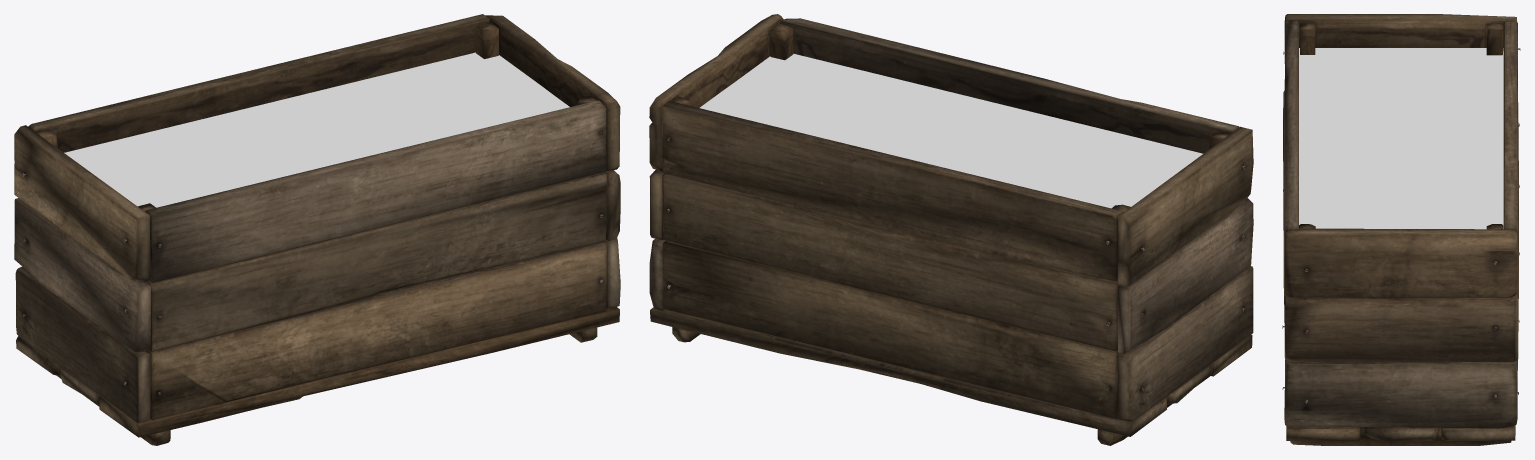
The model's file is planter_box.fbx.
3 renders of one model, left to right at view 1: azimuth 30°, elevation 25°; view 2: azimuth 150°, elevation 25°; view 3: azimuth 270°, elevation 25°, orthographic. The views are drawn at different scales.
Visible parts, largest first — view 1: planter_box_01; view 2: planter_box_01; view 3: planter_box_01.
Boxes of the visible parts, <box> form: planter_box_01: <box>14,14,620,445</box>; planter_box_01: <box>649,14,1253,445</box>; planter_box_01: <box>1282,14,1520,445</box>.
Bounding box in the file's own units: 91.21 × 42.33 × 41.31.
